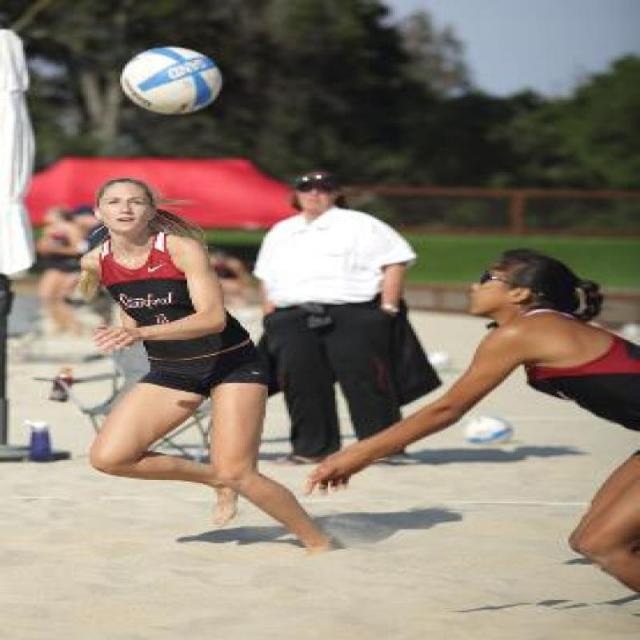volleyball: (120, 46, 224, 116), (464, 412, 516, 444), (427, 351, 458, 371)
